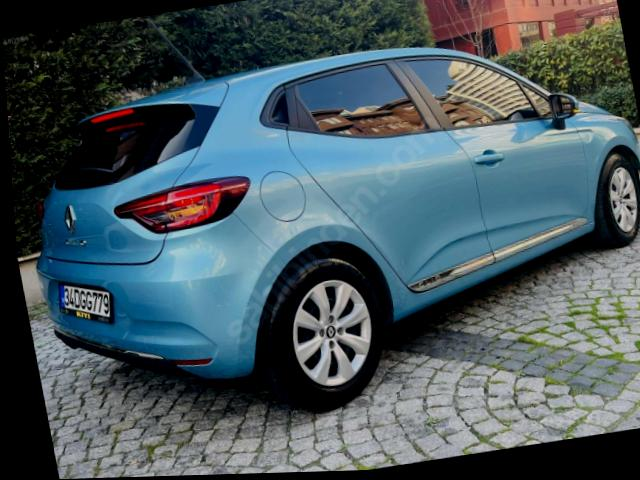plaka: (59, 284, 113, 323)
